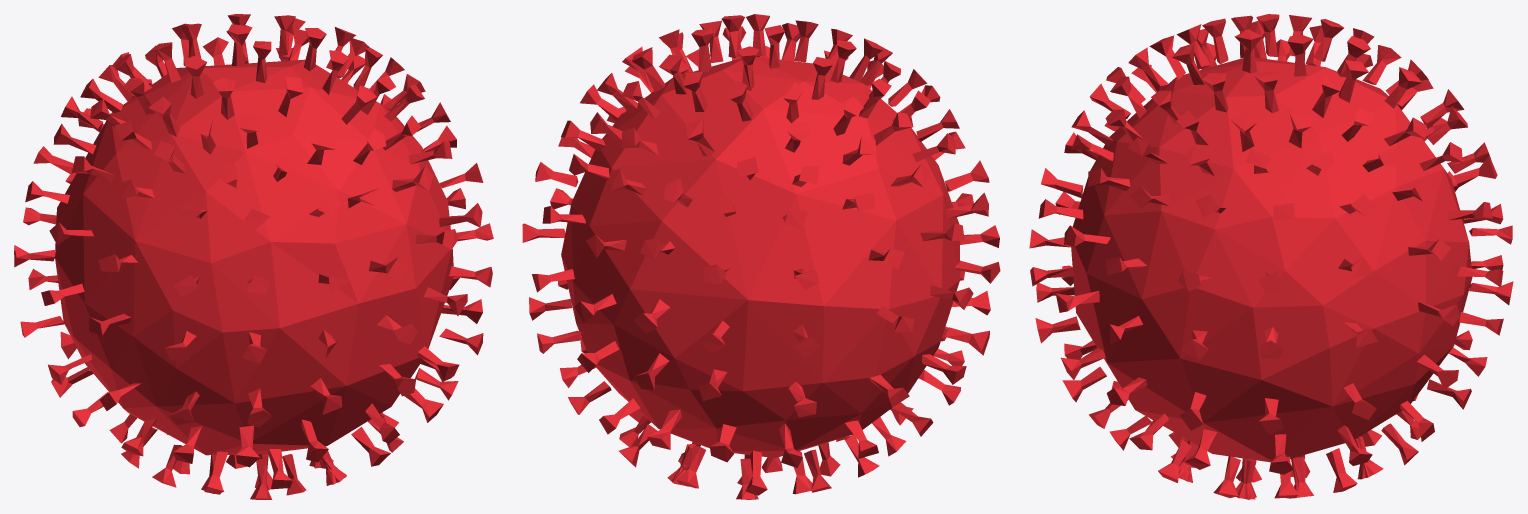
The model's file is covid.fbx.
3 views of the same model, side by side, from view 1: azimuth 30°, elevation 25°; view 2: azimuth 150°, elevation 25°; view 3: azimuth 270°, elevation 25° (orthographic).
Parts seen in each view (by area): view 1: Cylinder.010; view 2: Cylinder.010; view 3: Cylinder.010.
Part boxes in pixels (bbox=[...]): Cylinder.010: bbox=[14, 14, 493, 499]; Cylinder.010: bbox=[522, 14, 1000, 499]; Cylinder.010: bbox=[1029, 14, 1513, 499].
Bounding box in the file's own units: 236 × 241 × 239.
